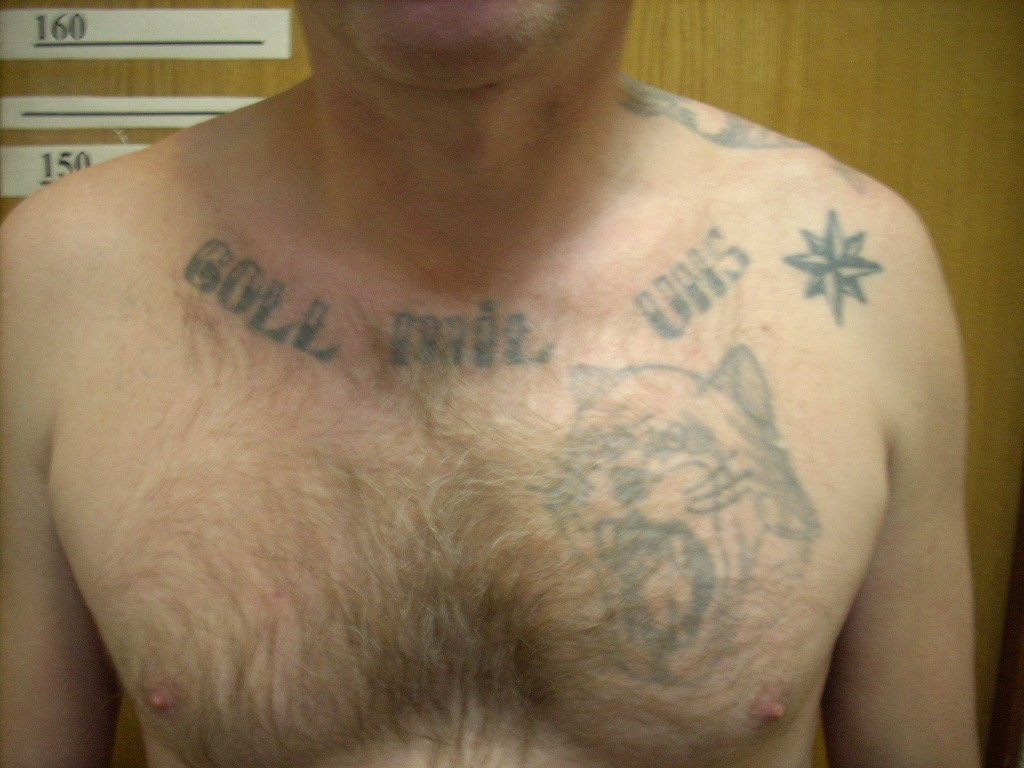tatu3_bukva: (148, 192, 770, 372)
tatu5_tigr: (510, 354, 883, 702)
